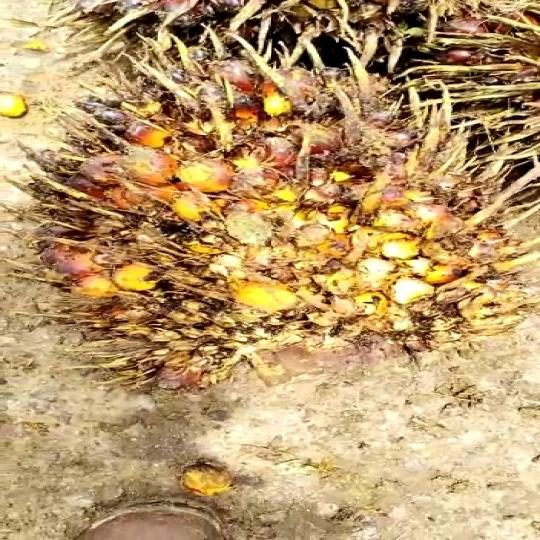masak: (1, 38, 540, 387)
